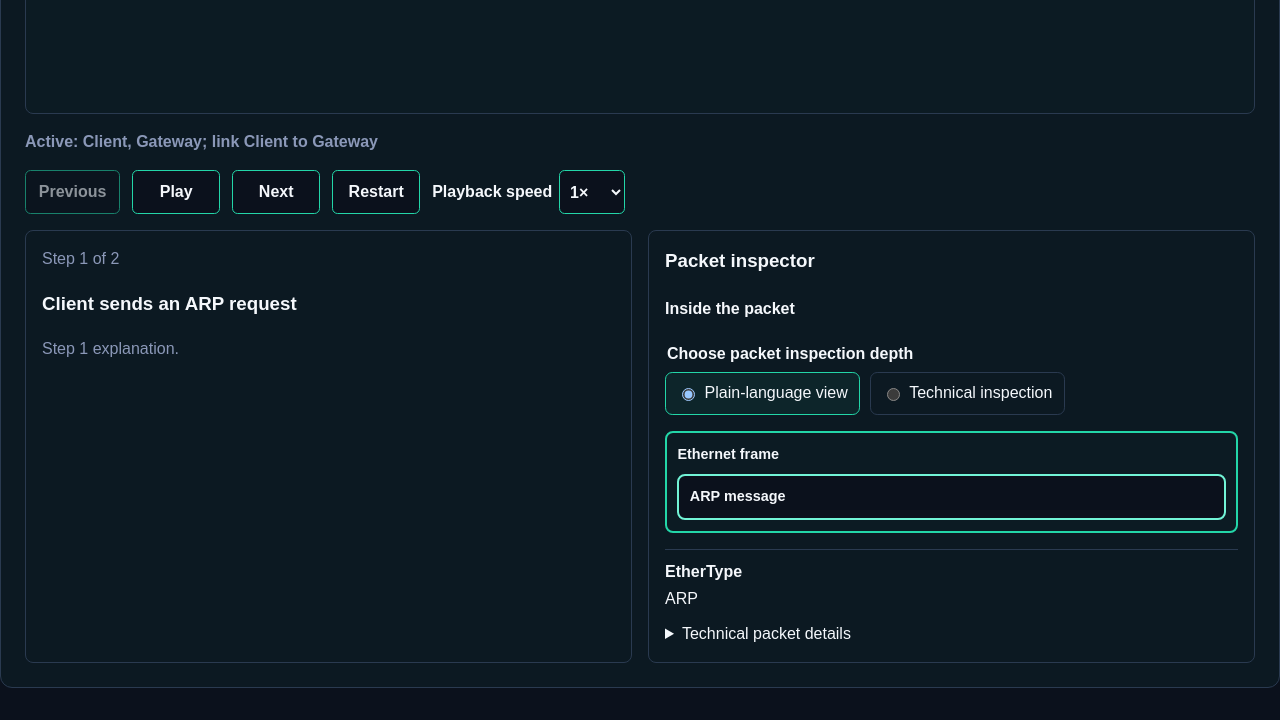
it: PacketFlowPlayer › lets learners switch between plain-language and technical packet inspection
(page scrolled)
Expected: the element "Choose packet inspection depth" is shown, [665,345,1064,415]
Expected: the heading "Inside the packet" is shown, [665,300,795,317]
Click the radio button labelled "Technical inspection" at (893, 395), box [887,388,900,401]
(page scrolled)
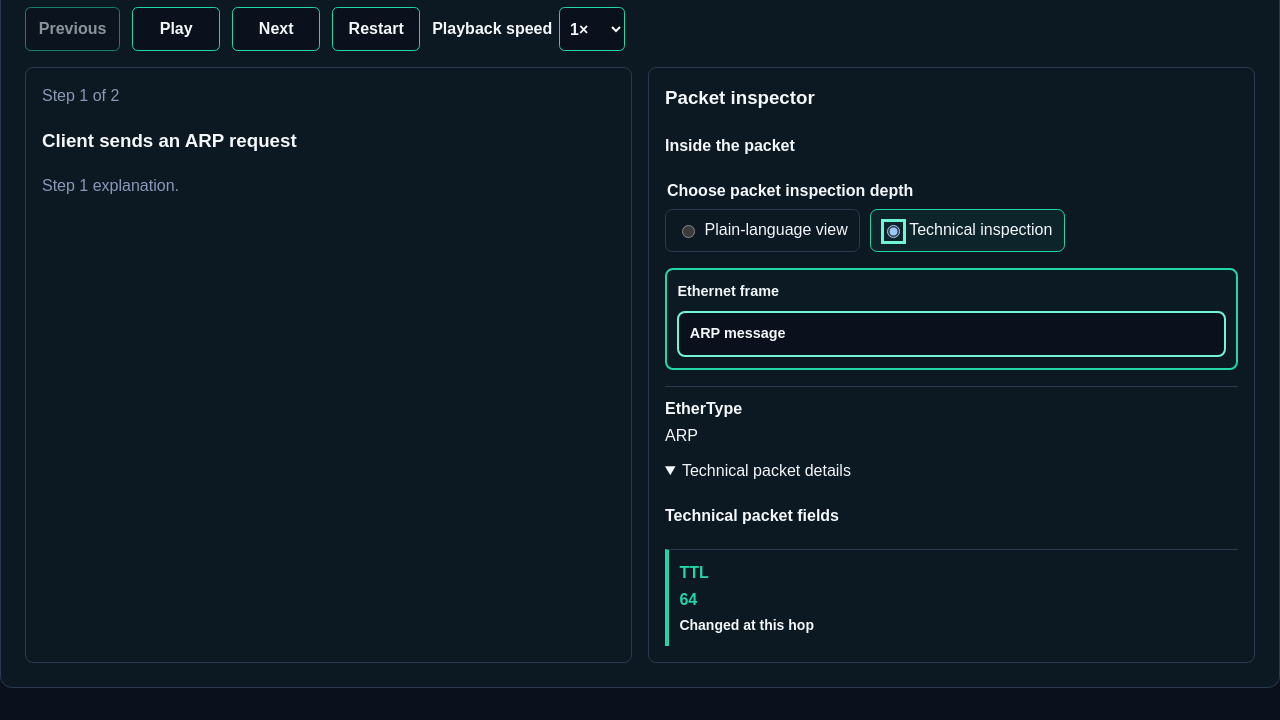
Expected: the heading "Technical packet fields" is shown, [665,507,839,524]
Expected: the text "TTL" is shown, [679,564,709,581]
